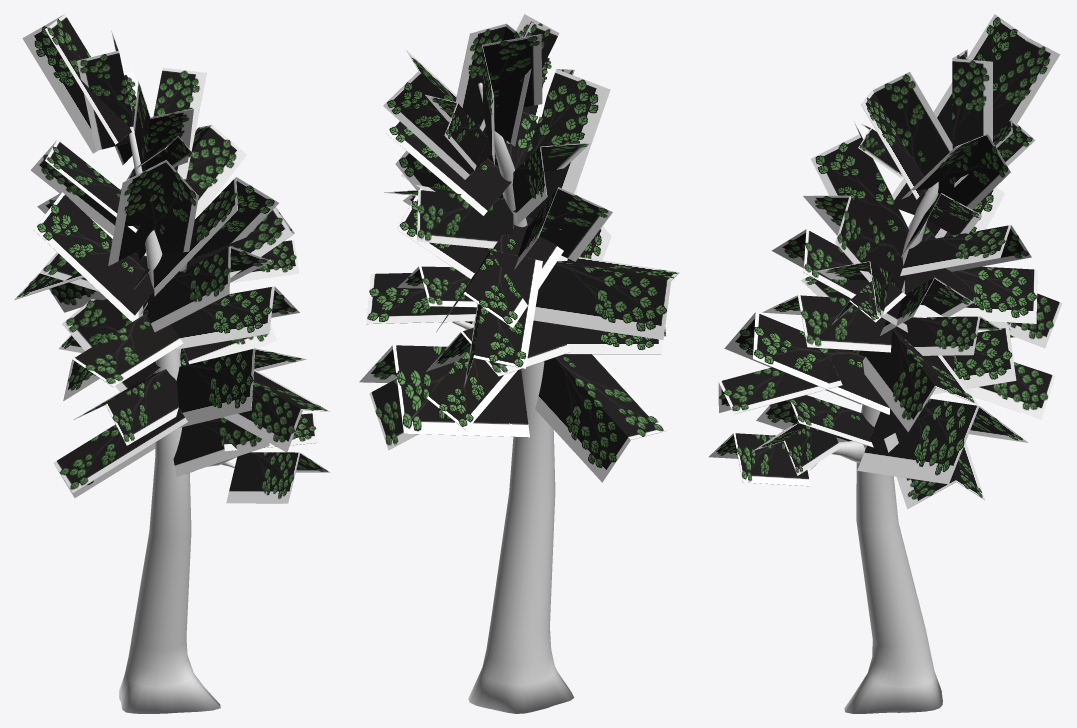
The model's file is birch_tree_1.fbx.
3 renders of one model, left to right at view 1: azimuth 30°, elevation 25°; view 2: azimuth 150°, elevation 25°; view 3: azimuth 270°, elevation 25°, orthographic. The views are drawn at different scales.
Parts seen in each view (by area): view 1: birch 1 leaves, birch tree 1; view 2: birch 1 leaves, birch tree 1; view 3: birch 1 leaves, birch tree 1.
Part boxes in pixels (x1,y1,x2,y2): birch 1 leaves: [14, 14, 330, 503]; birch tree 1: [118, 126, 236, 713]; birch 1 leaves: [359, 14, 679, 482]; birch tree 1: [452, 82, 574, 713]; birch 1 leaves: [709, 14, 1062, 508]; birch tree 1: [781, 148, 952, 713].
Size of the model in its own units: 809 by 2113 by 1045.
